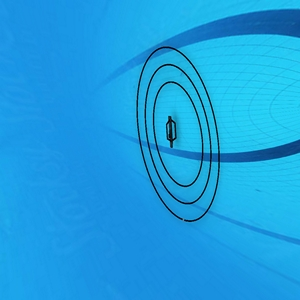circle: (128, 43, 225, 227)
submarine: (162, 114, 179, 144)
